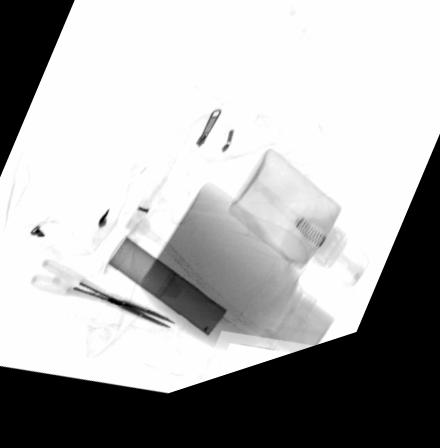Scissors: (28, 260, 174, 339)
